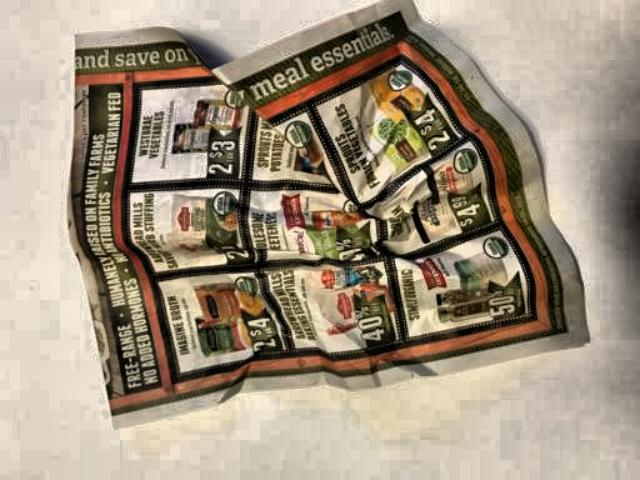Paper: (67, 1, 597, 428)
